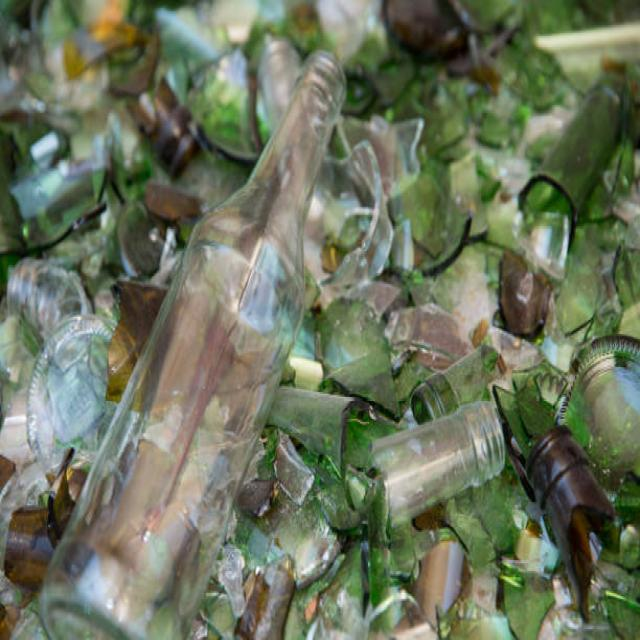glass: (332, 390, 632, 586), (345, 143, 596, 339), (42, 176, 101, 427)
